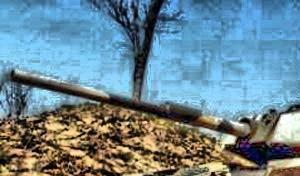tanks: (13, 73, 300, 176)
